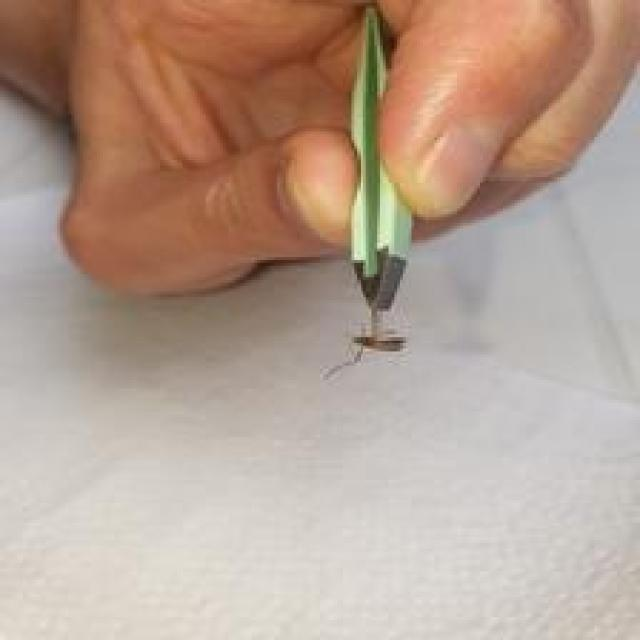Culex: (320, 3, 414, 380)
